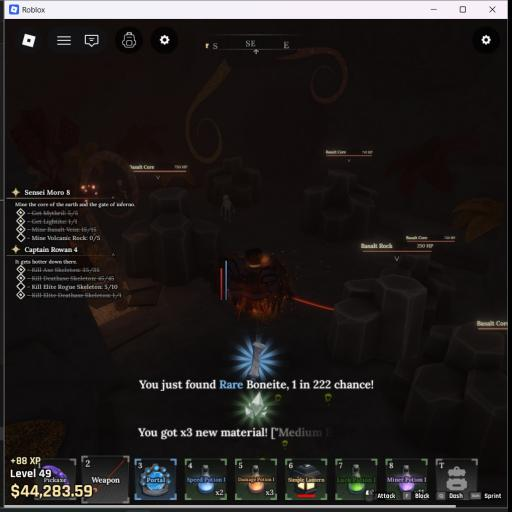player: (222, 247, 294, 316), (205, 263, 222, 293)
rock: (388, 322, 507, 469), (122, 187, 222, 285), (328, 274, 427, 364), (301, 170, 377, 242), (206, 158, 260, 206)
